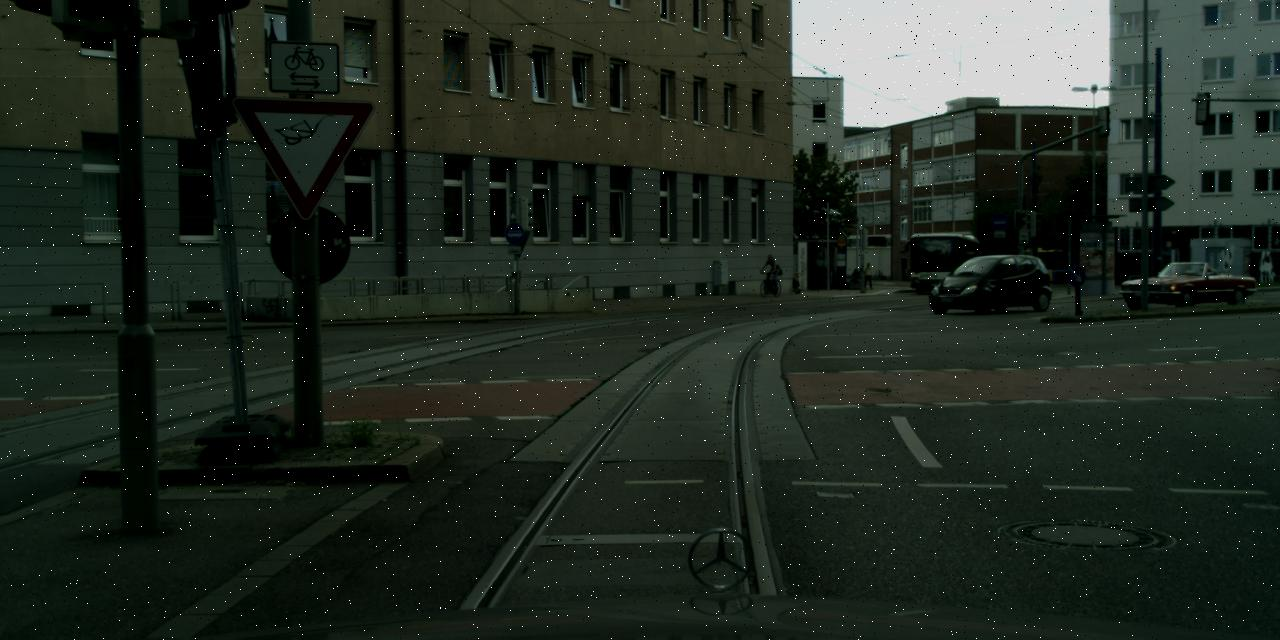ped: (766, 253, 779, 287), (809, 262, 820, 290), (863, 263, 873, 288)
